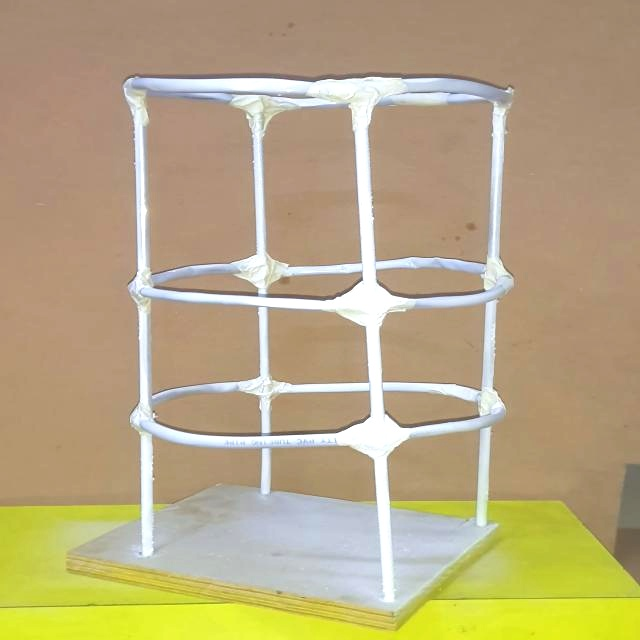silo: (100, 71, 510, 617)
